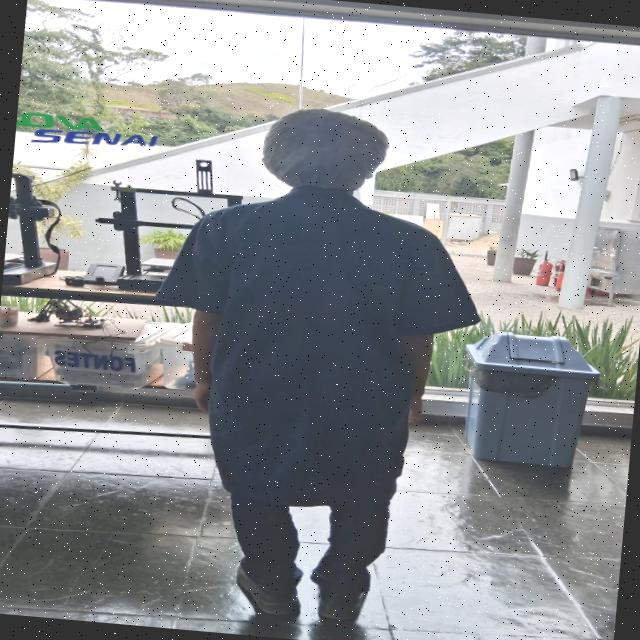BOTA: (230, 553, 303, 621), (311, 557, 365, 621)
JALECO: (151, 181, 491, 512)
SEM LUVA: (400, 393, 435, 428), (188, 382, 212, 417)
TOUCA: (258, 108, 389, 189)
